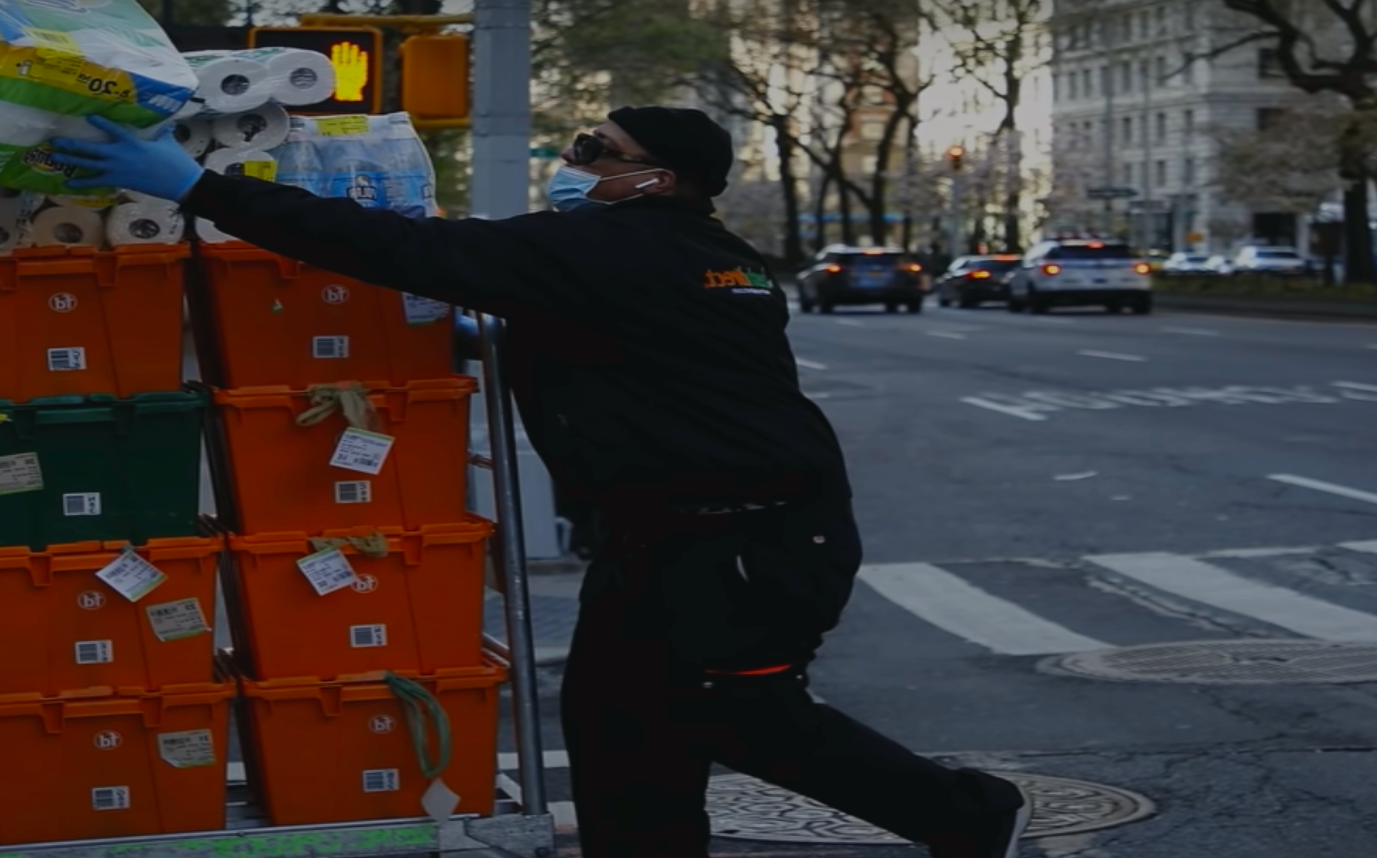mask_weared_incorrect: (543, 104, 730, 217)
